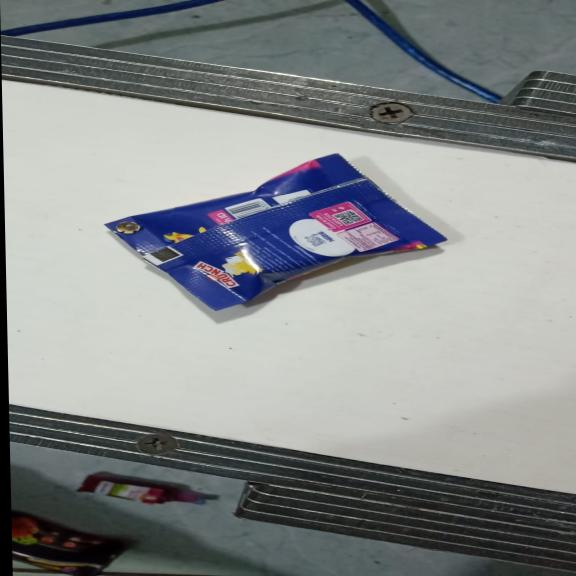Plastik: (102, 152, 448, 310)
